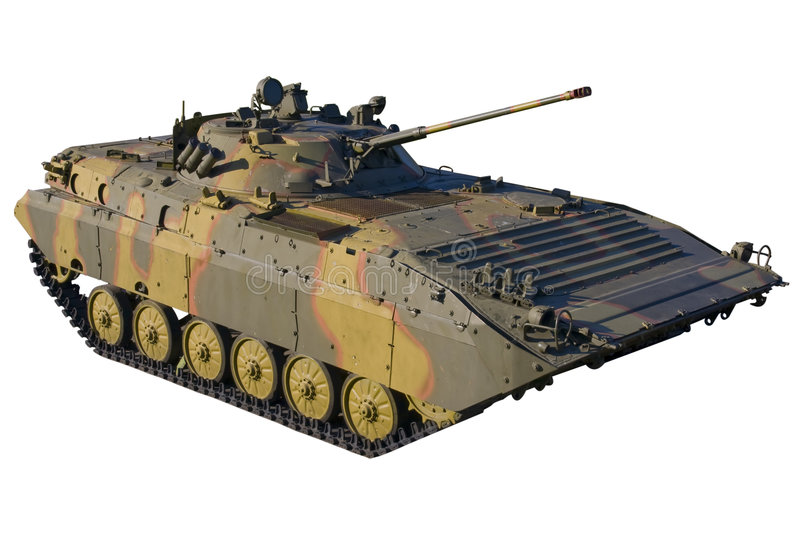bmp1: (8, 75, 786, 455)
